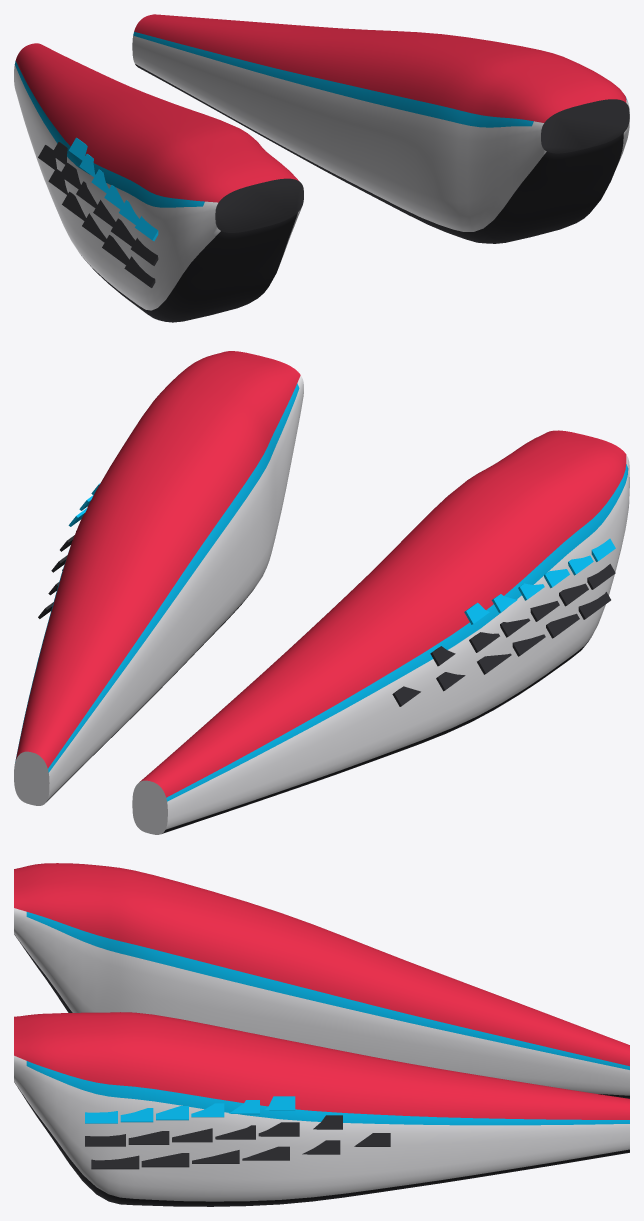
Rendered from vents.glb.
3 renders of one model, top to bottom at view 1: azimuth 30°, elevation 25°; view 2: azimuth 150°, elevation 25°; view 3: azimuth 270°, elevation 25°, orthographic. The views are drawn at different scales.
Parts seen in each view (by area): view 1: Sidepods_vents; view 2: Sidepods_vents; view 3: Sidepods_vents.
Part boxes in pixels (x1,y1,x2,y2): Sidepods_vents: (14,14,629,322); Sidepods_vents: (14,351,629,834); Sidepods_vents: (14,863,629,1206).
Size of the model in its own units: 1.57 by 0.6036 by 1.94.
